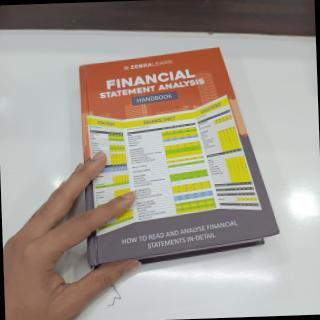book: (62, 44, 282, 277)
